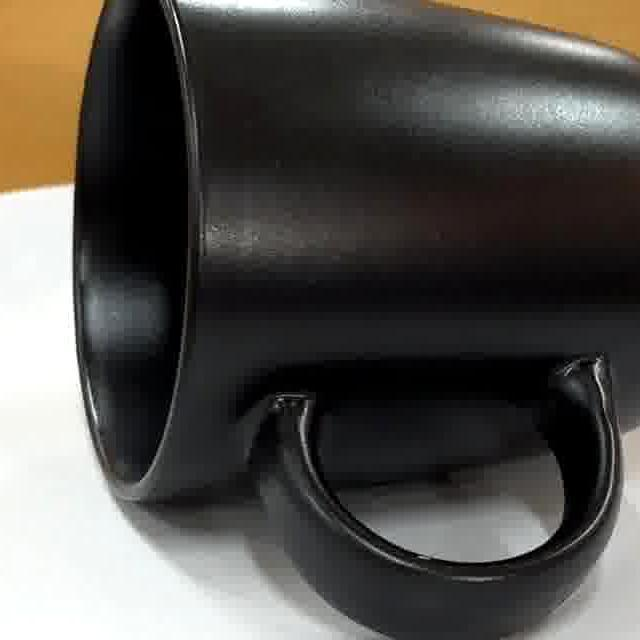cup: (74, 0, 640, 640)
